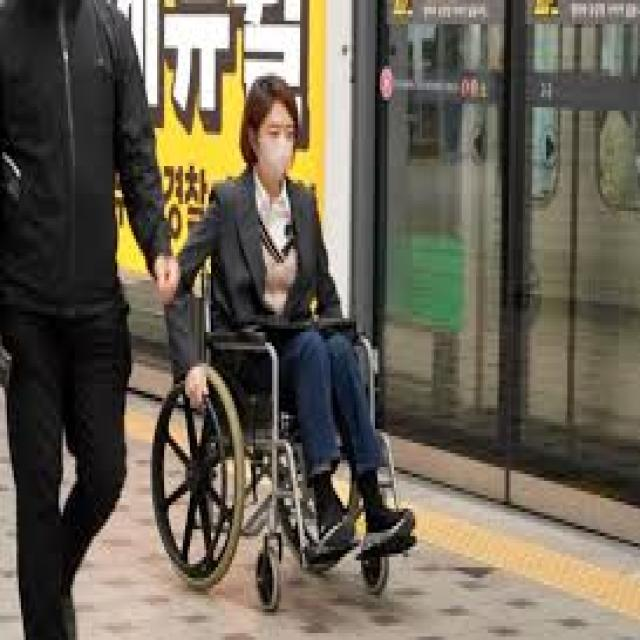wheelchair: (152, 76, 416, 602)
